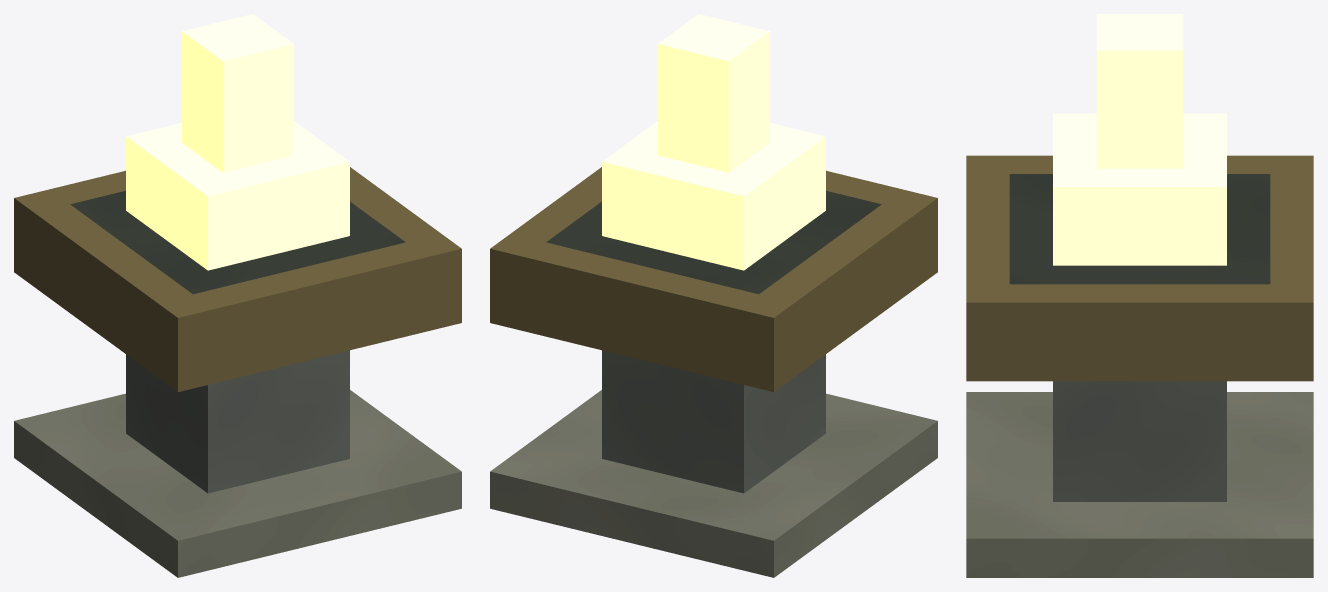
The model's file is LIGHT_BRAZIER.glb.
3 renders of one model, left to right at view 1: azimuth 30°, elevation 25°; view 2: azimuth 150°, elevation 25°; view 3: azimuth 270°, elevation 25°, orthographic. The views are drawn at different scales.
Visible parts, largest first — view 1: LIGHT_BRAZIER; view 2: LIGHT_BRAZIER; view 3: LIGHT_BRAZIER.
Boxes of the visible parts, bbox=[...] form: LIGHT_BRAZIER: bbox=[14, 14, 461, 577]; LIGHT_BRAZIER: bbox=[490, 14, 937, 577]; LIGHT_BRAZIER: bbox=[966, 14, 1313, 577].
Size of the model in its own units: 1 by 1.5 by 1.
5 materials, 3 textured.
